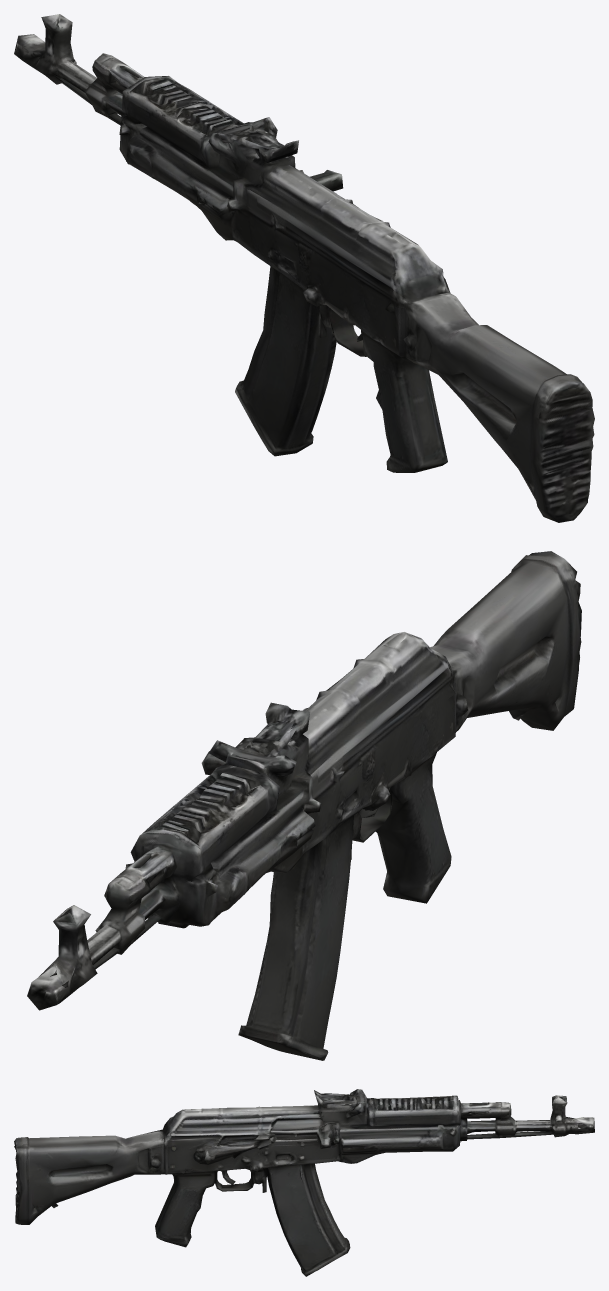
The picture shows the model from 3 angles, top to bottom: view 1: azimuth 30°, elevation 25°; view 2: azimuth 150°, elevation 25°; view 3: azimuth 270°, elevation 25°; orthographic projection. The views are drawn at different scales.
Parts seen in each view (by area): view 1: tripo_node_ea94c244-dfc6-4f0b-aeef-92cbad907b12; view 2: tripo_node_ea94c244-dfc6-4f0b-aeef-92cbad907b12; view 3: tripo_node_ea94c244-dfc6-4f0b-aeef-92cbad907b12.
Boxes of the visible parts, x1,y1,x2,y2 form: tripo_node_ea94c244-dfc6-4f0b-aeef-92cbad907b12: (14,14,594,522); tripo_node_ea94c244-dfc6-4f0b-aeef-92cbad907b12: (27,551,581,1060); tripo_node_ea94c244-dfc6-4f0b-aeef-92cbad907b12: (14,1089,594,1276).
Size of the model in its own units: 0.1377 by 0.3395 by 1.
1 material, 1 textured.
